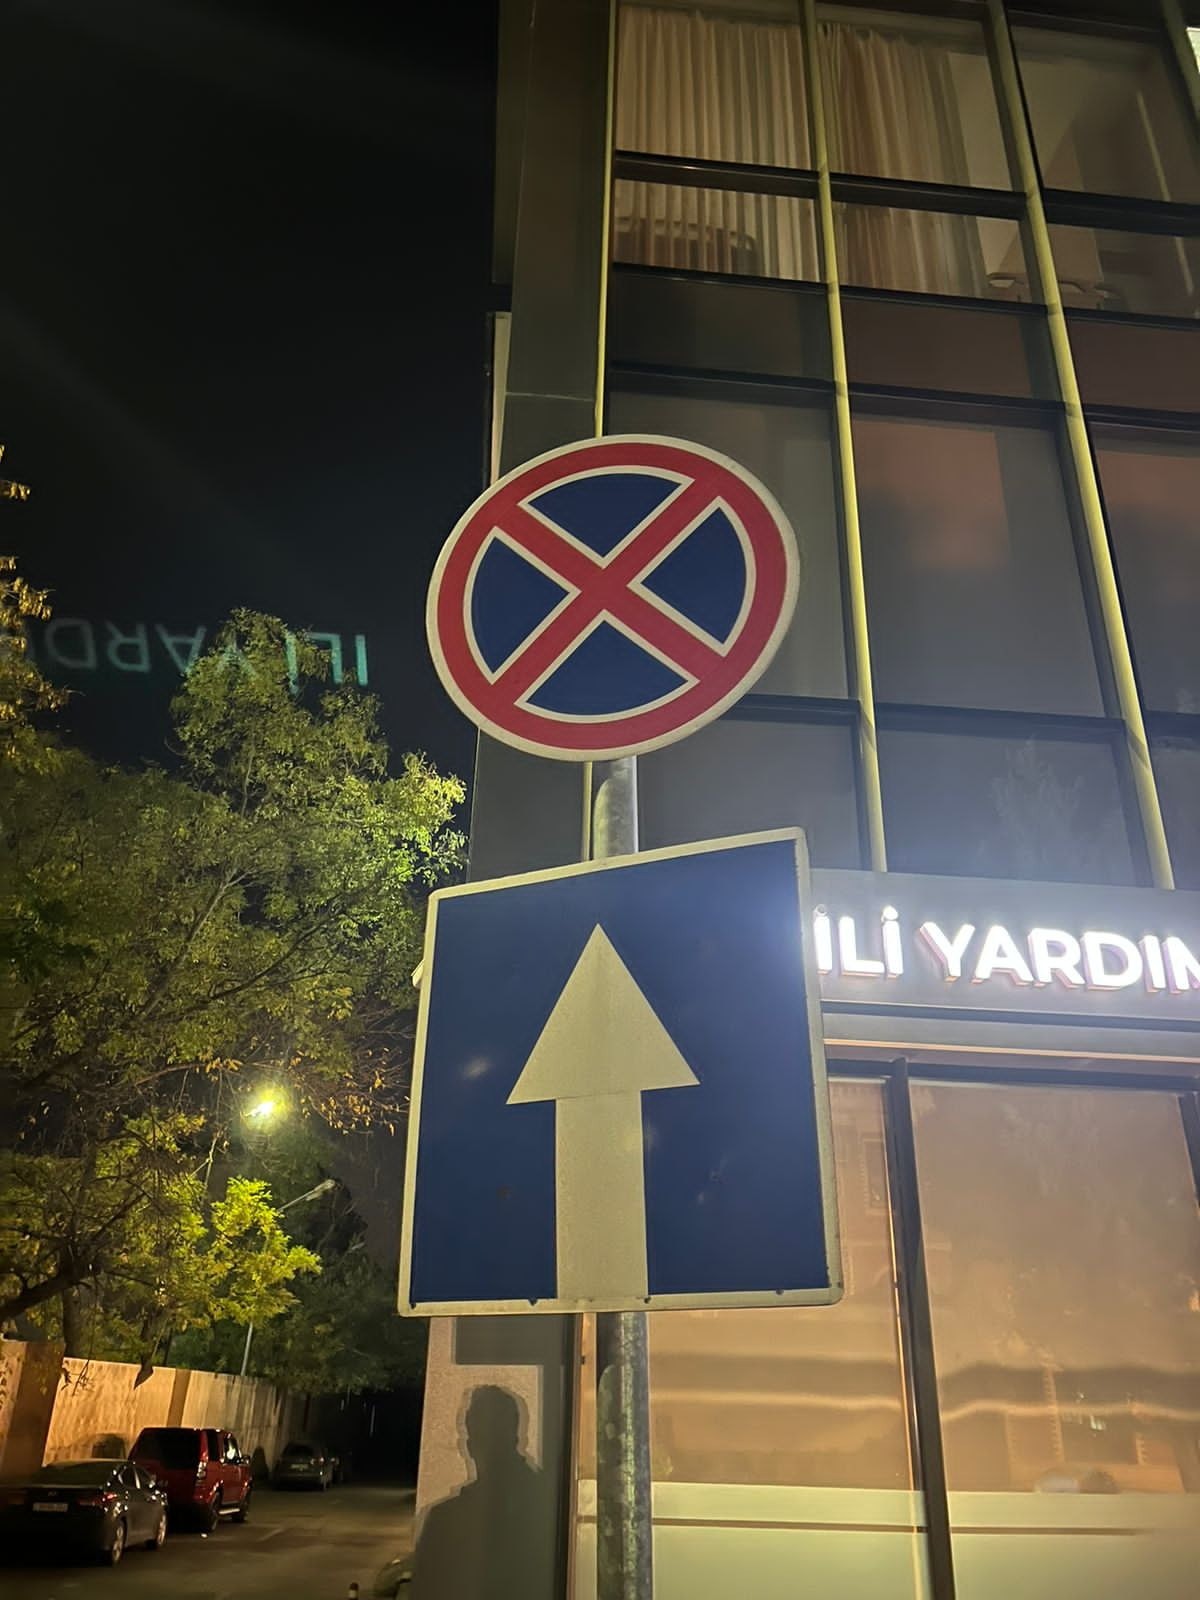No Parking: (424, 433, 805, 763)
